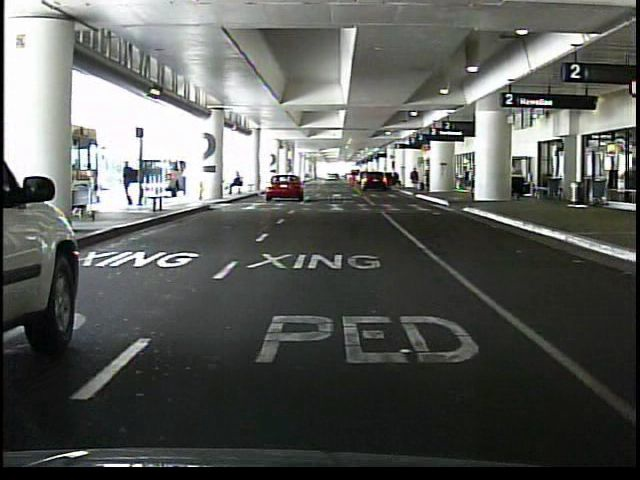person: (124, 161, 140, 207), (228, 171, 246, 195), (411, 165, 422, 193), (470, 162, 477, 200)
